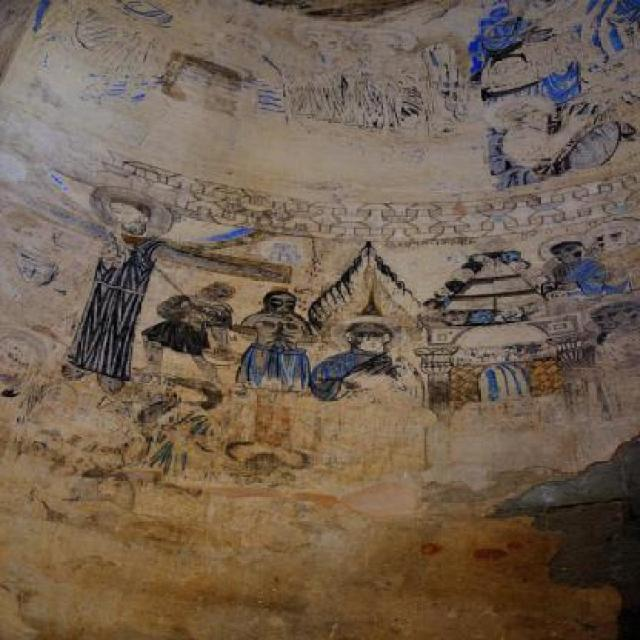Person: (64, 199, 164, 390), (479, 91, 639, 177), (125, 375, 228, 480), (309, 319, 416, 401), (238, 289, 313, 391), (538, 243, 612, 308)
